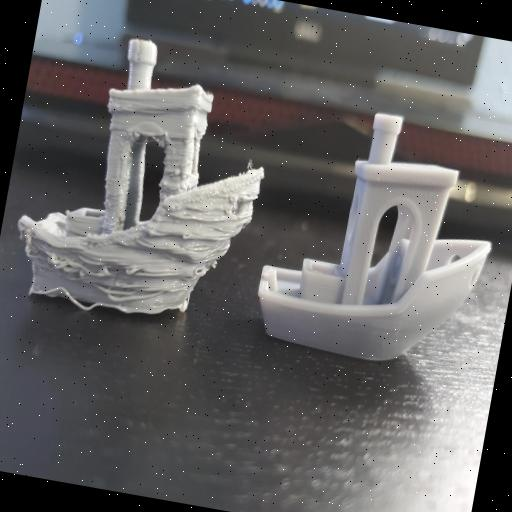blobs: (15, 231, 195, 324), (168, 158, 266, 252)
